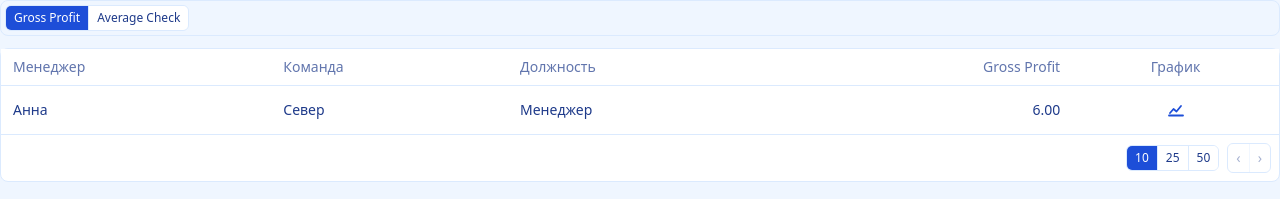
dashboard screen › requests the selected ranking mode
This screenshot has width=1280, height=199.
expect the column heading "Gross Profit" is shown: met, box x1=788 y1=49 x2=1072 y2=86
Click the button "Average Check" at [139, 18], box x1=89 y1=6 x2=188 y2=30
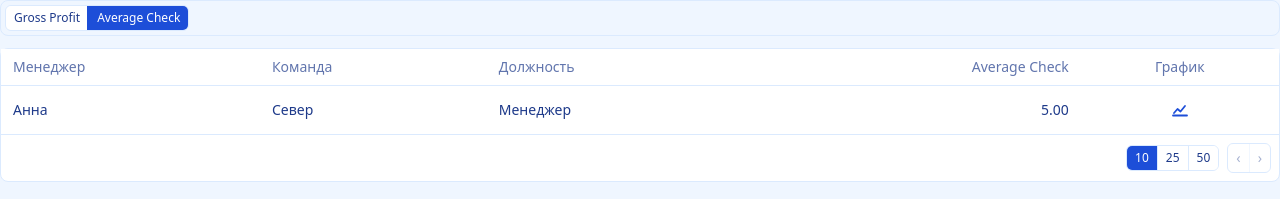
expect the column heading "Average Check" is shown: met, box x1=755 y1=49 x2=1081 y2=86
